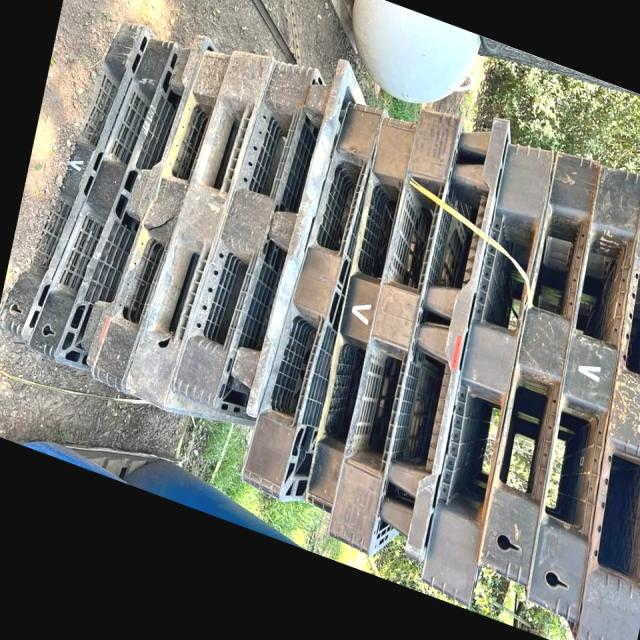non-igps: (416, 129, 565, 617), (324, 99, 473, 563), (236, 85, 397, 509), (374, 106, 519, 569), (168, 52, 334, 435), (117, 40, 282, 420), (472, 142, 607, 590), (519, 153, 639, 636), (24, 29, 187, 377), (84, 25, 235, 399), (226, 53, 376, 428), (0, 15, 161, 349), (300, 95, 422, 522), (563, 198, 640, 640)
